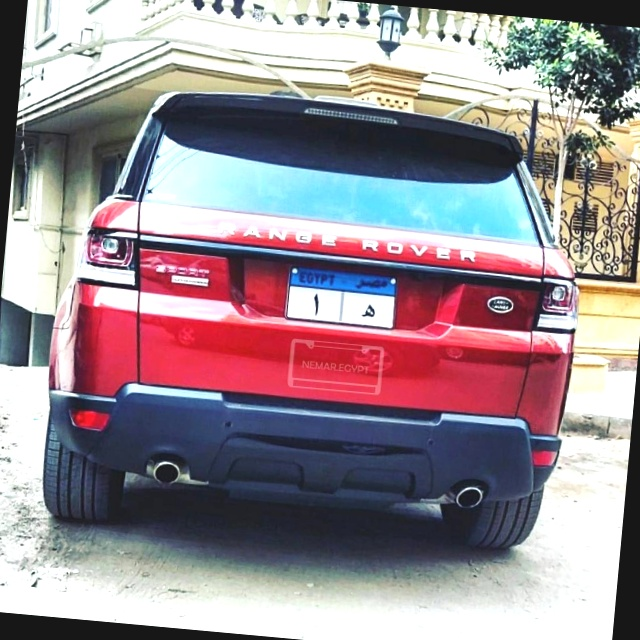License Plate: (281, 260, 402, 333)
